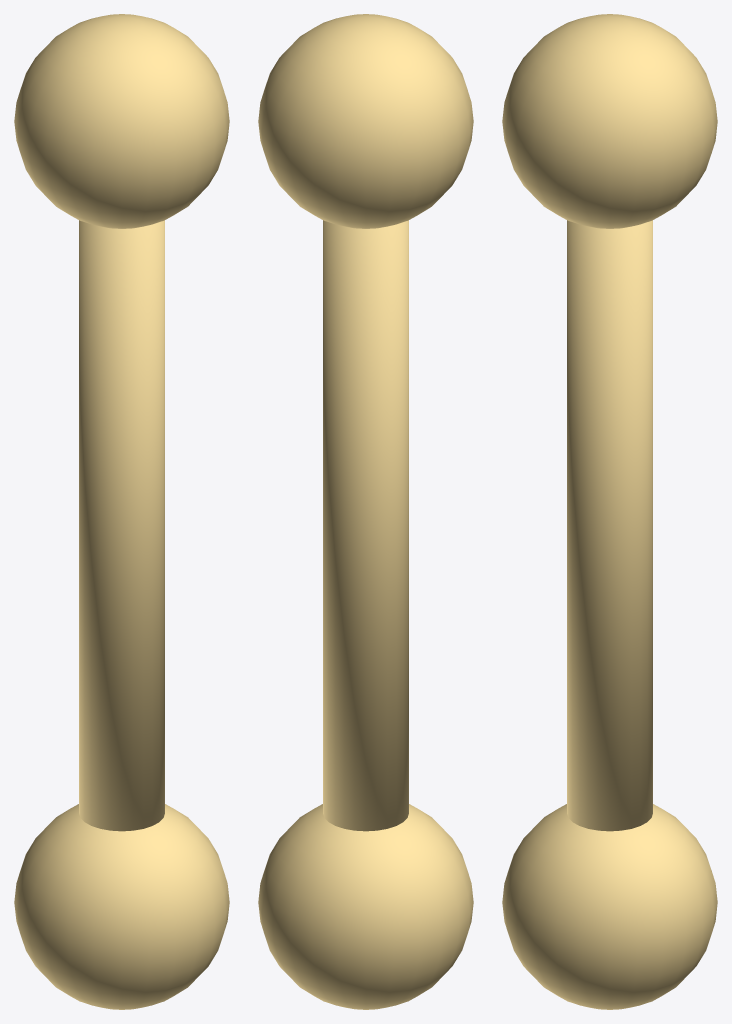
File: straight-barbell-gold585-16mm-14g.glb
3 renders of one model, left to right at view 1: azimuth 30°, elevation 25°; view 2: azimuth 150°, elevation 25°; view 3: azimuth 270°, elevation 25°, orthographic.
Visible parts, largest first — view 1: straight_barbell; view 2: straight_barbell; view 3: straight_barbell.
Boxes of the visible parts, x1,y1,x2,y2 form: straight_barbell: [14, 14, 229, 1009]; straight_barbell: [258, 14, 473, 1009]; straight_barbell: [502, 14, 717, 1009].
Size of the model in its own units: 0.004 by 0.02 by 0.004.
